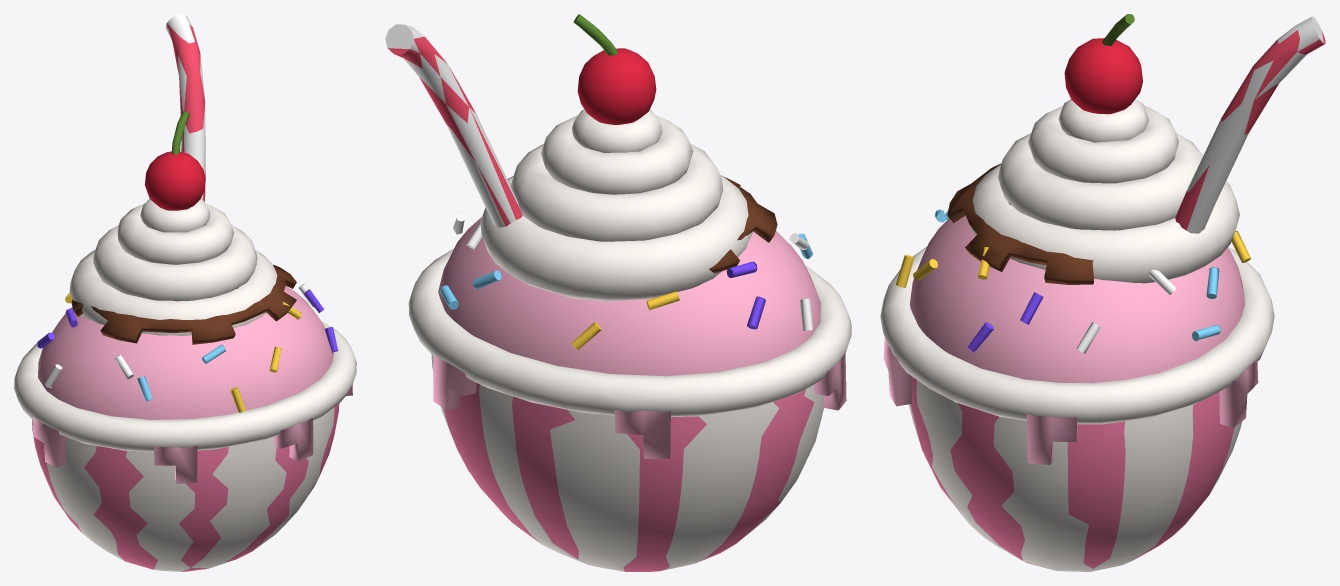
The model's file is tb_mat_milkshake.glb.
3 views of the same model, side by side, from view 1: azimuth 30°, elevation 25°; view 2: azimuth 150°, elevation 25°; view 3: azimuth 270°, elevation 25° (orthographic). The views are drawn at different scales.
Visible parts, largest first — view 1: matkropp; view 2: matkropp; view 3: matkropp.
Boxes of the visible parts, x1=… form: matkropp: x1=14, y1=14, x2=356, y2=571; matkropp: x1=385, y1=14, x2=851, y2=571; matkropp: x1=880, y1=14, x2=1325, y2=571.
Bounding box in the file's own units: 0.8678 × 1.24 × 0.8495.
